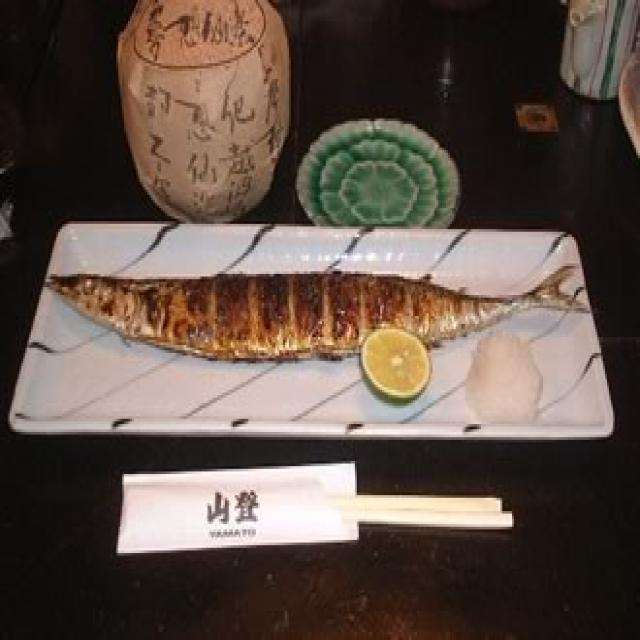熟制海鲜: (35, 240, 589, 360)
